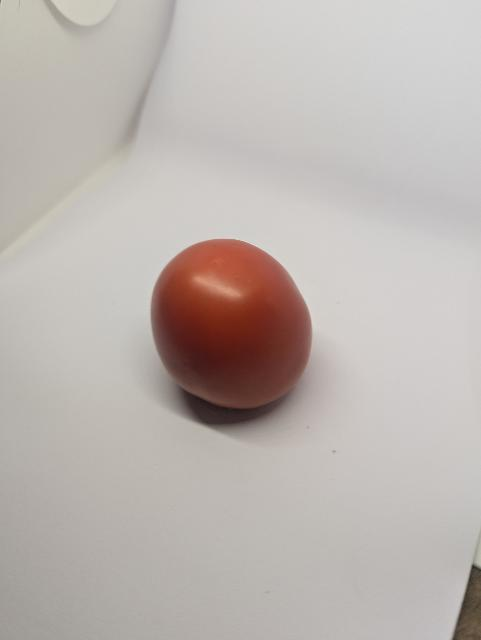red: (133, 221, 324, 418)
